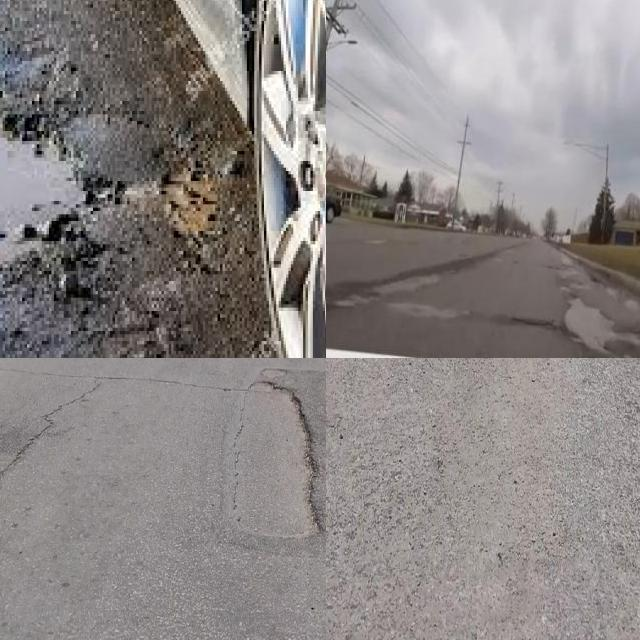Pothole: (0, 44, 86, 308), (232, 376, 322, 542), (564, 298, 640, 351), (344, 269, 426, 315), (568, 306, 640, 358), (564, 298, 616, 350), (388, 302, 469, 319), (373, 274, 440, 294), (509, 315, 560, 331), (557, 277, 590, 292), (543, 261, 569, 272), (624, 300, 640, 311), (485, 255, 508, 262), (590, 274, 602, 286)
